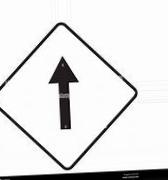forward: (41, 49, 87, 139)
